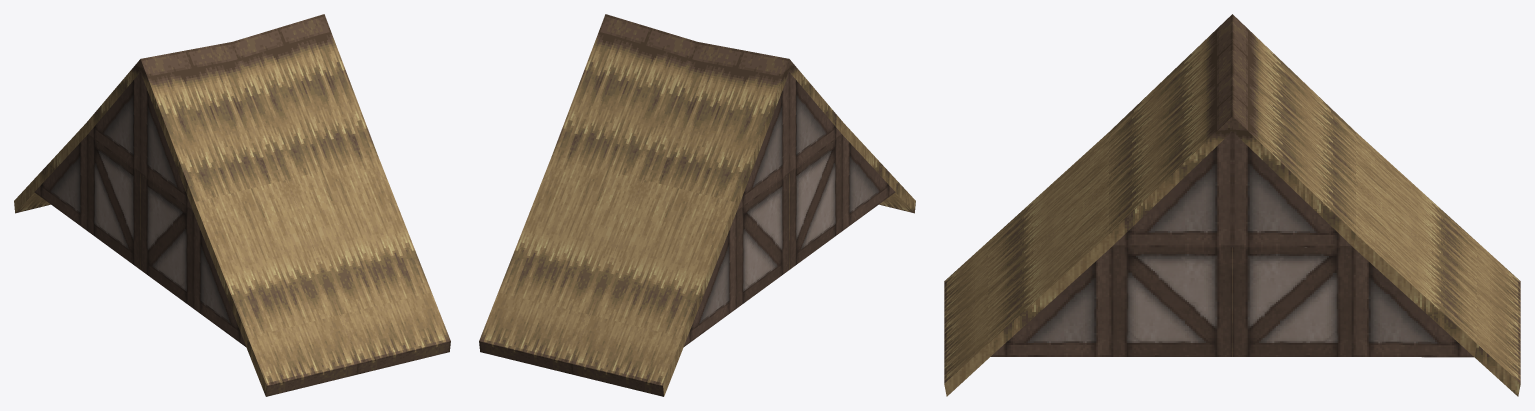
The model's file is roof_straw_half.glb.
The picture shows the model from 3 angles, left to right: view 1: azimuth 30°, elevation 25°; view 2: azimuth 150°, elevation 25°; view 3: azimuth 270°, elevation 25°; orthographic projection. The views are drawn at different scales.
Parts seen in each view (by area): view 1: roof_straw_half; view 2: roof_straw_half; view 3: roof_straw_half.
Boxes of the visible parts, x1,y1,x2,y2 form: roof_straw_half: (14, 14, 450, 396); roof_straw_half: (479, 14, 915, 396); roof_straw_half: (944, 14, 1520, 396).
Size of the model in its own units: 2 by 2.56 by 4.76.
1 material, 1 textured.
